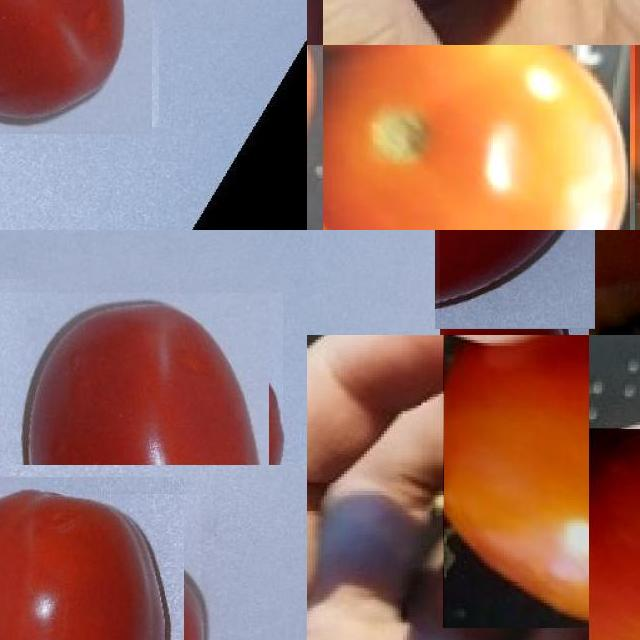0: (323, 45, 635, 230)
Fresh Tomato: (0, 293, 283, 465), (443, 335, 589, 628), (0, 493, 200, 640), (0, 0, 155, 130), (437, 230, 592, 332)
